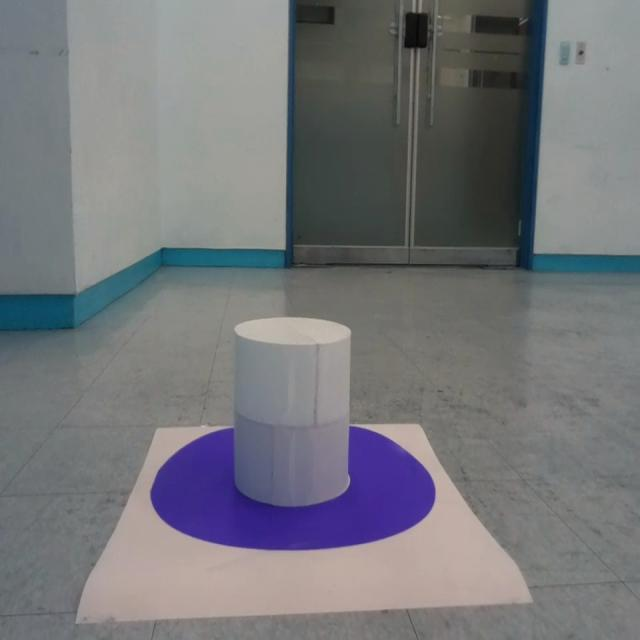cylinder: (233, 316, 353, 506)
